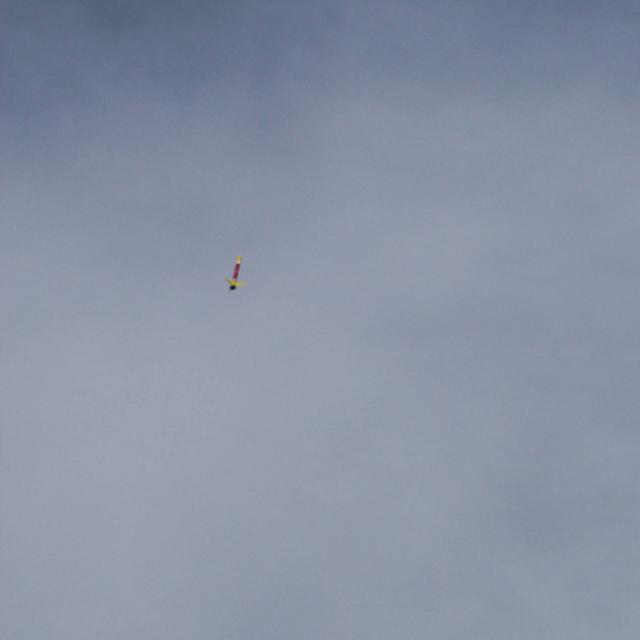Rocket: (223, 253, 247, 293)
